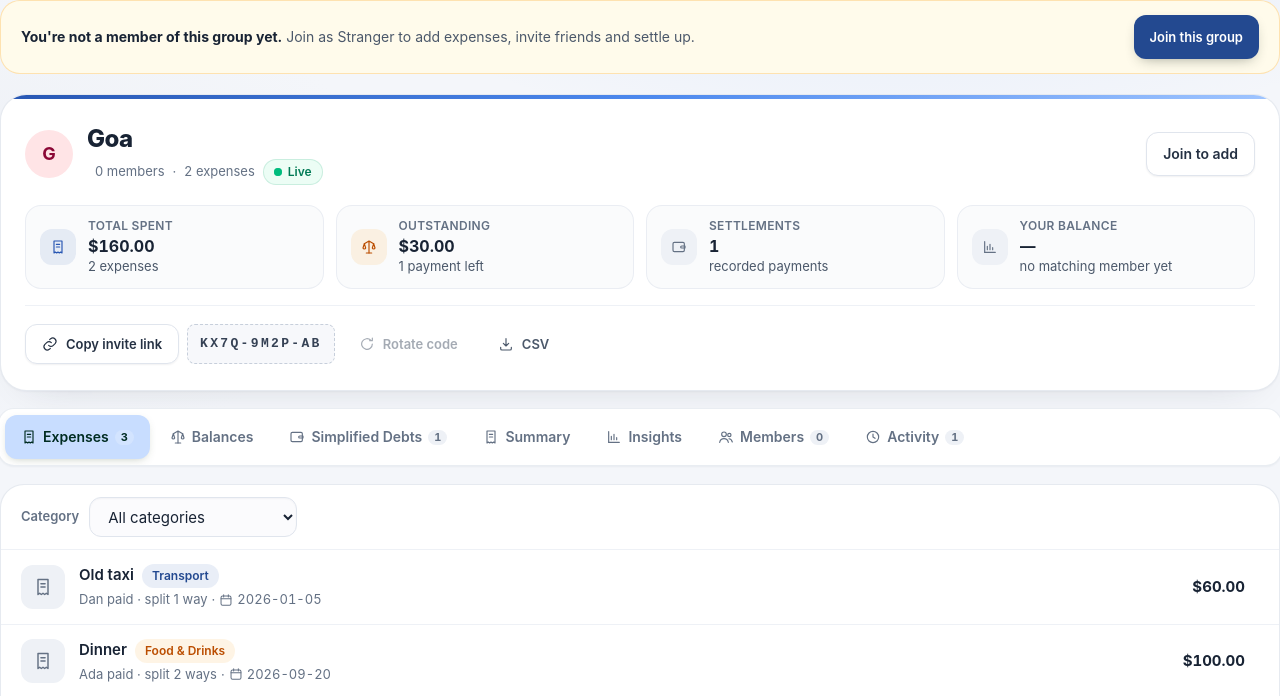
Test: GroupPage edge paths › blocks joining while offline and surfaces join failures
This screenshot has width=1280, height=696.
Click the button "Join to add". click: (1201, 154)
box: [1146,132,1255,176]
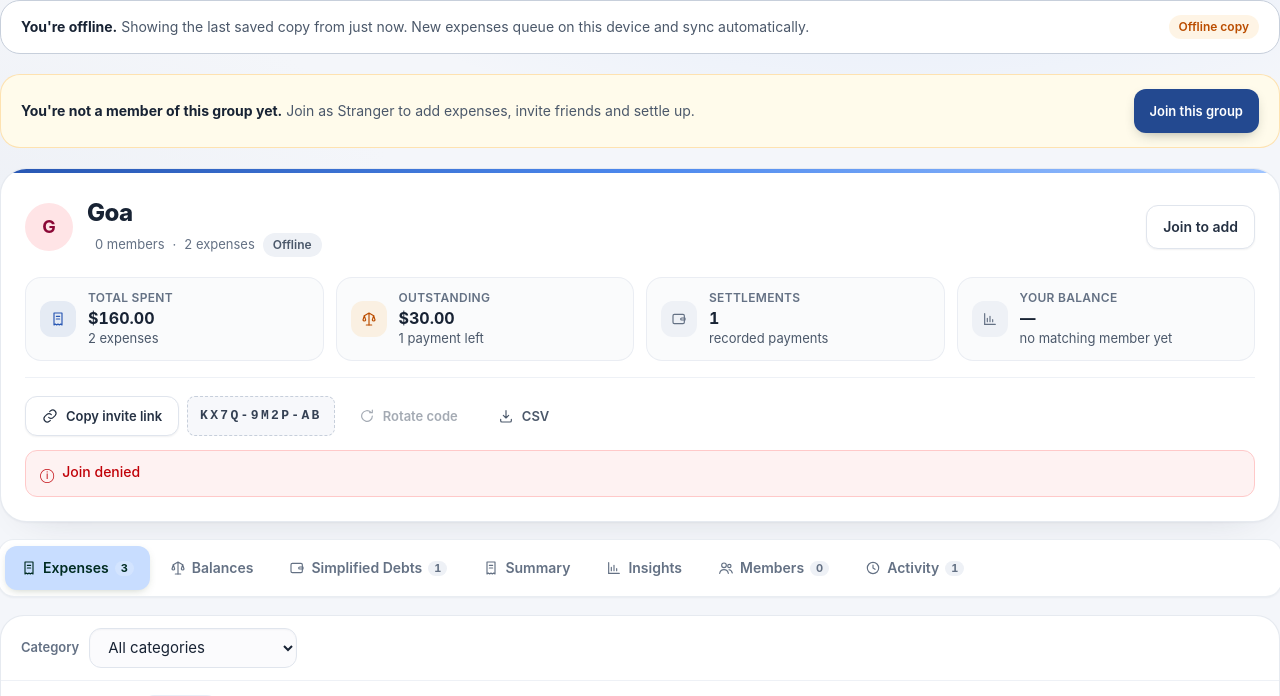
Result: the text "Join denied" is shown at [62,461,140,484]
Click the button "Join to add". click: (1201, 227)
box: [1146,205,1255,249]
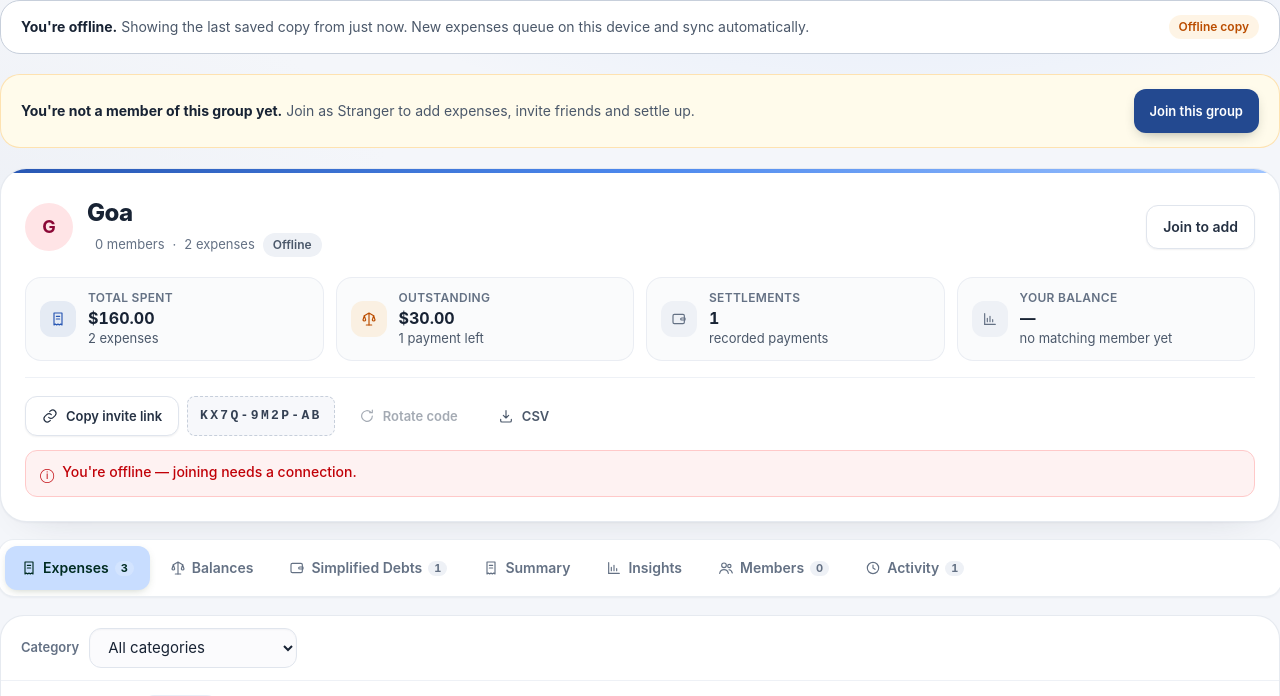
Result: the text "You're offline — joining needs a connection." is shown at [62,461,357,484]
